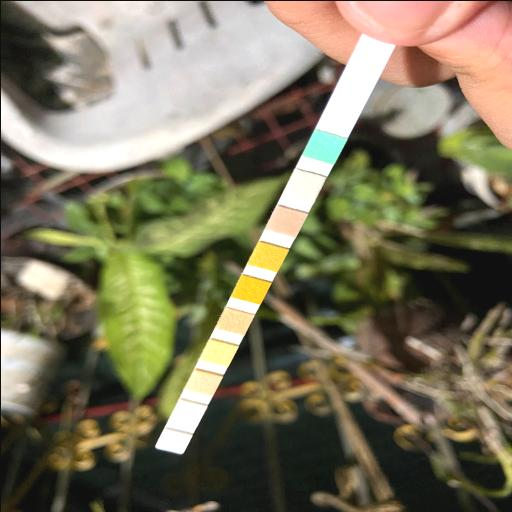Bilirubin: (290, 175, 318, 193)
Blood: (236, 282, 264, 296)
Glucose: (308, 138, 338, 154)
Ketone: (271, 212, 300, 229)
Leukocytes: (158, 434, 186, 446)
Nitrite: (174, 406, 200, 418)
Protein: (203, 346, 231, 358)
SpGravity: (252, 248, 282, 264)
Urobilinogen: (188, 374, 216, 388)
pH: (222, 314, 248, 328)
strip: (153, 38, 392, 452)
